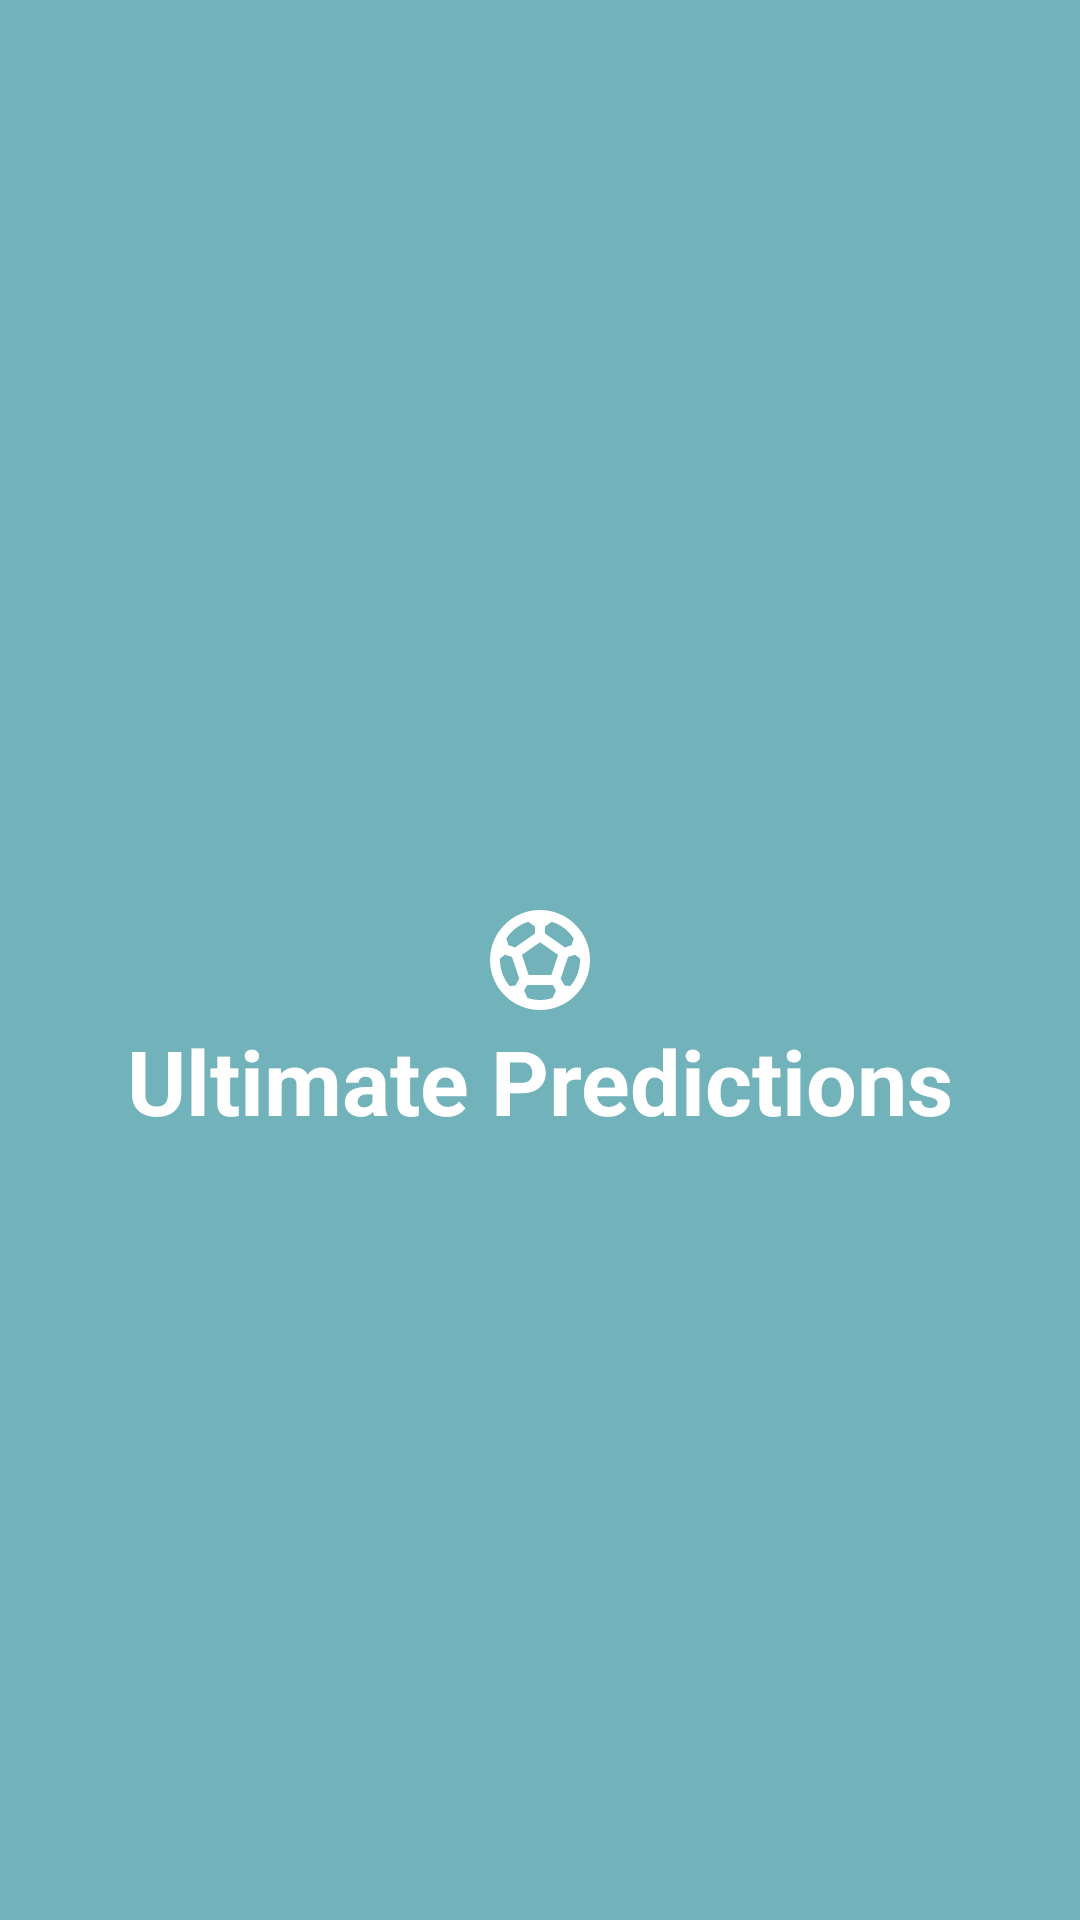

Screen size 1080x1920. Icon name, then its box in pixels as (x1, y1, x2, y2):
sports soccer: (490, 910, 590, 1010)
